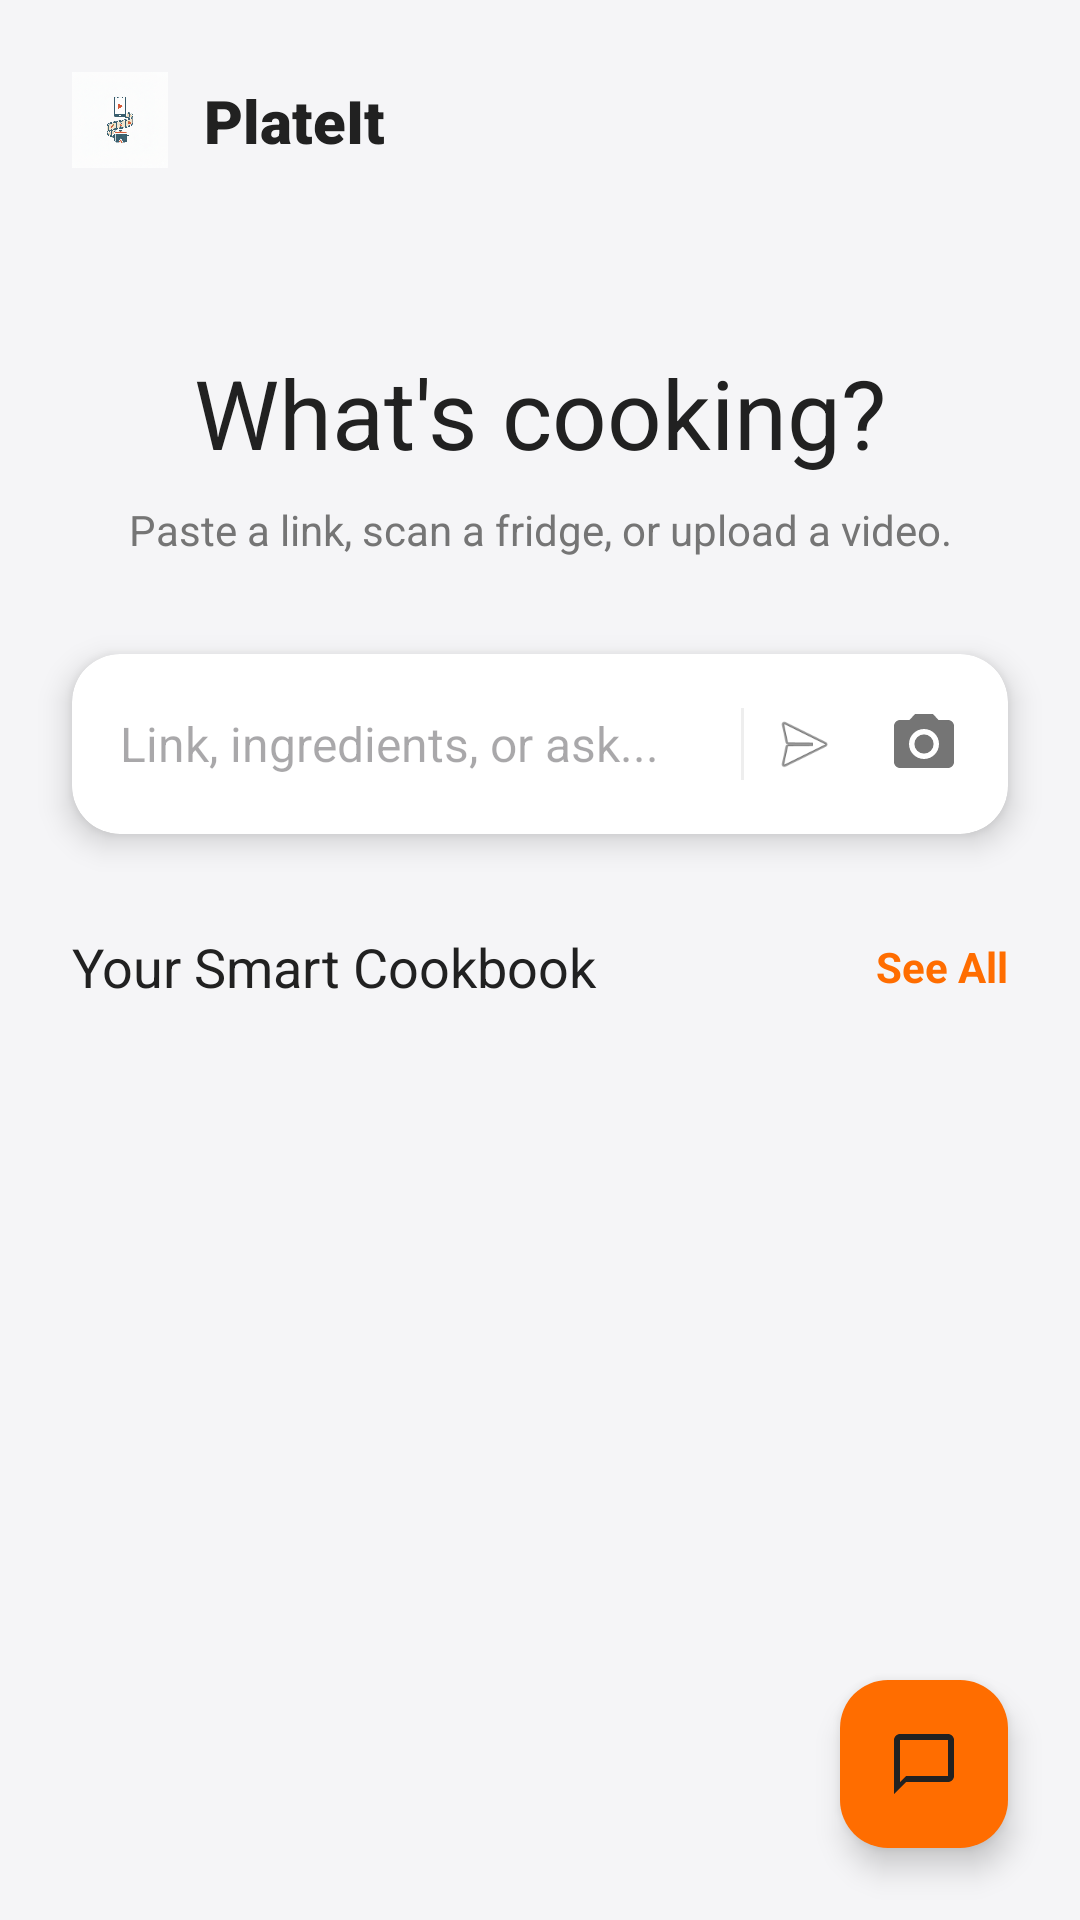

Where icons sit on this 1080x1920 app screen, as [x1,y1,x2,y2]:
camera: [894,714,954,768]
Chat with Chef: [840,1680,1008,1848]
send: [781,722,828,767]
